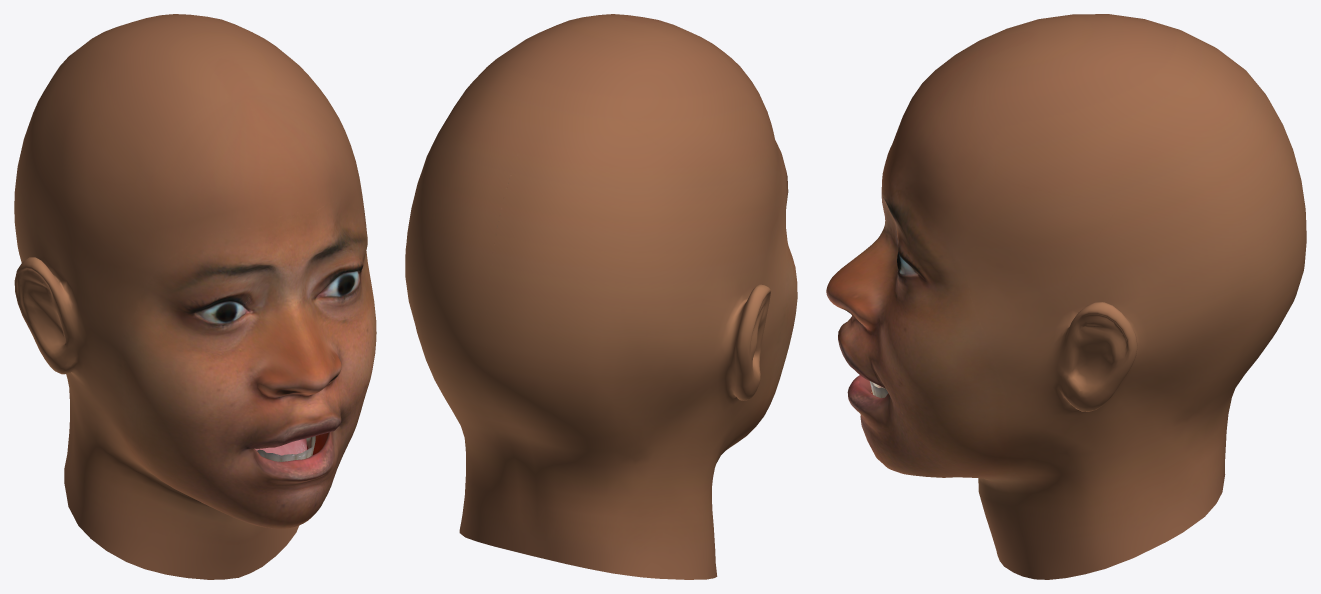
Rendered from v332_obj_ExpressionFear.obj.
3 views of the same model, side by side, from view 1: azimuth 30°, elevation 25°; view 2: azimuth 150°, elevation 25°; view 3: azimuth 270°, elevation 25° (orthographic). The views are drawn at different scales.
Visible parts, largest first — view 1: HeadHires, Mouth; view 2: HeadHires; view 3: HeadHires.
Part boxes in pixels (<box>): HeadHires: <box>14,14,376,579</box>; Mouth: <box>254,432,328,461</box>; HeadHires: <box>405,14,797,579</box>; HeadHires: <box>826,14,1306,579</box>.
Size of the model in its own units: 187 by 282 by 234.
